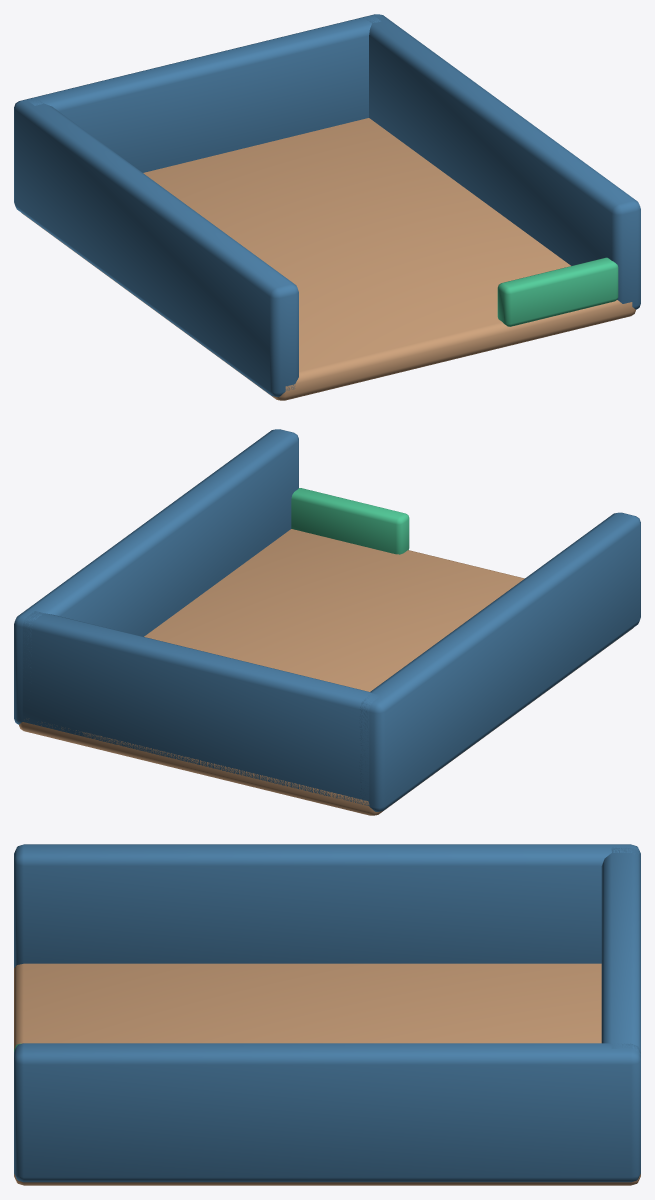
File: Doc_OutboxTray.fbx
3 renders of one model, top to bottom at view 1: azimuth 30°, elevation 25°; view 2: azimuth 150°, elevation 25°; view 3: azimuth 270°, elevation 25°, orthographic. The views are drawn at different scales.
Visible parts, largest first — view 1: Outbox_Floor, Outbox_WallR, Outbox_WallL, Outbox_WallBack, Outbox_Badge; view 2: Outbox_WallBack, Outbox_Floor, Outbox_WallR, Outbox_WallL, Outbox_Badge; view 3: Outbox_WallL, Outbox_WallR, Outbox_Floor, Outbox_WallBack.
Part boxes in pixels (bbox=[...]): Outbox_Floor: bbox=[22, 118, 635, 400]; Outbox_WallR: bbox=[14, 97, 298, 396]; Outbox_WallL: bbox=[364, 14, 640, 309]; Outbox_WallBack: bbox=[24, 15, 380, 172]; Outbox_Badge: bbox=[497, 257, 618, 326]; Outbox_WallBack: bbox=[22, 611, 380, 805]; Outbox_Floor: bbox=[19, 529, 632, 815]; Outbox_WallR: bbox=[360, 512, 640, 811]; Outbox_WallL: bbox=[14, 429, 298, 724]; Outbox_Badge: bbox=[291, 488, 409, 554]; Outbox_WallL: bbox=[14, 1043, 640, 1182]; Outbox_WallR: bbox=[14, 844, 640, 967]; Outbox_Floor: bbox=[14, 963, 640, 1185]; Outbox_WallBack: bbox=[601, 847, 640, 1056].
Size of the model in its own units: 7.8 by 2.3 by 9.6.
